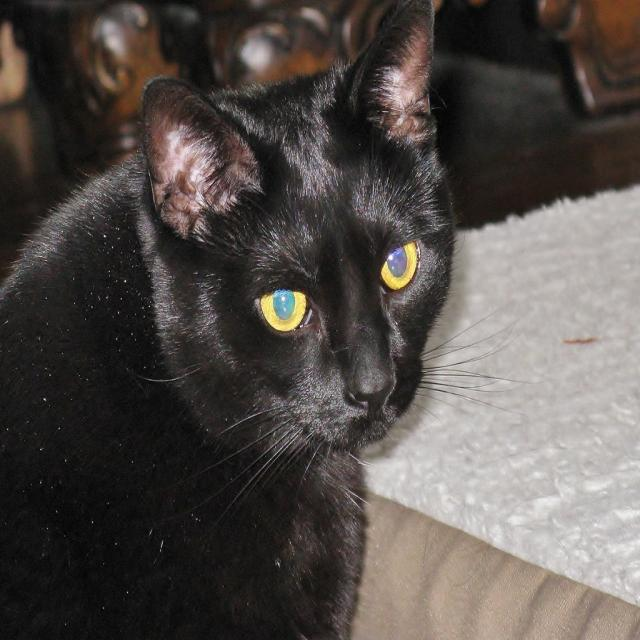Cat: (0, 0, 546, 639)
